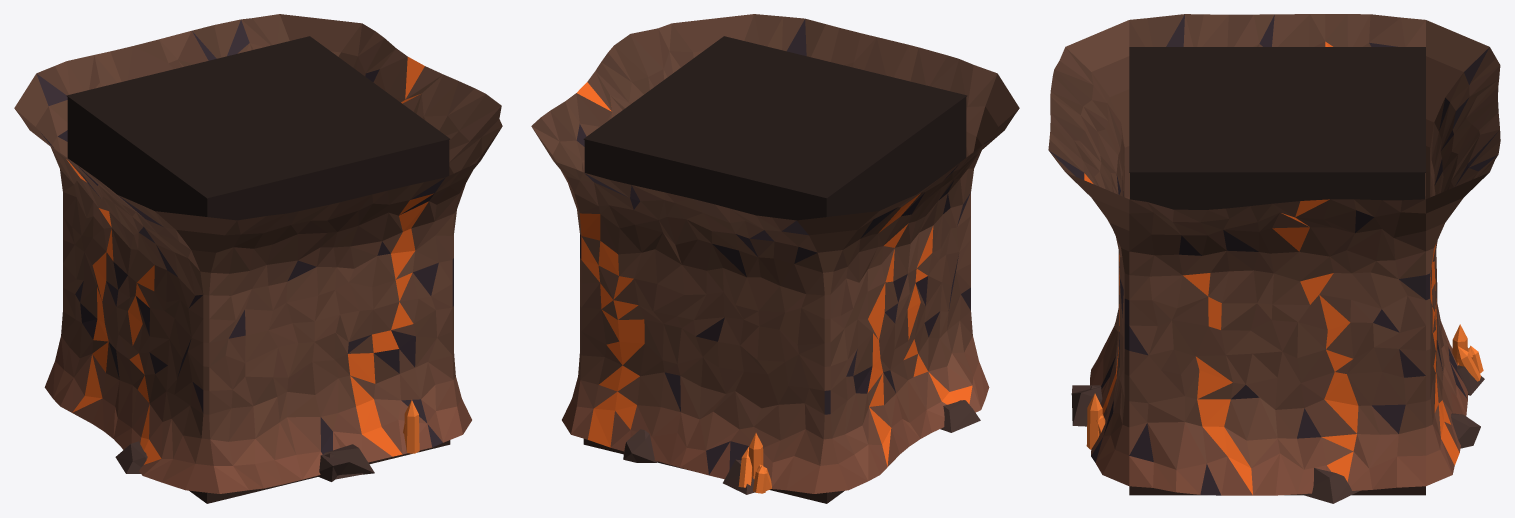
The model's file is wall_c.fbx.
3 renders of one model, left to right at view 1: azimuth 30°, elevation 25°; view 2: azimuth 150°, elevation 25°; view 3: azimuth 270°, elevation 25°, orthographic. The views are drawn at different scales.
Visible parts, largest first — view 1: wall_c; view 2: wall_c; view 3: wall_c.
Part boxes in pixels (x1,y1,x2,y2): wall_c: [14, 14, 502, 503]; wall_c: [531, 14, 1019, 503]; wall_c: [1048, 14, 1500, 503].
Bounding box in the file's own units: 6.25 × 4.8 × 6.09.
